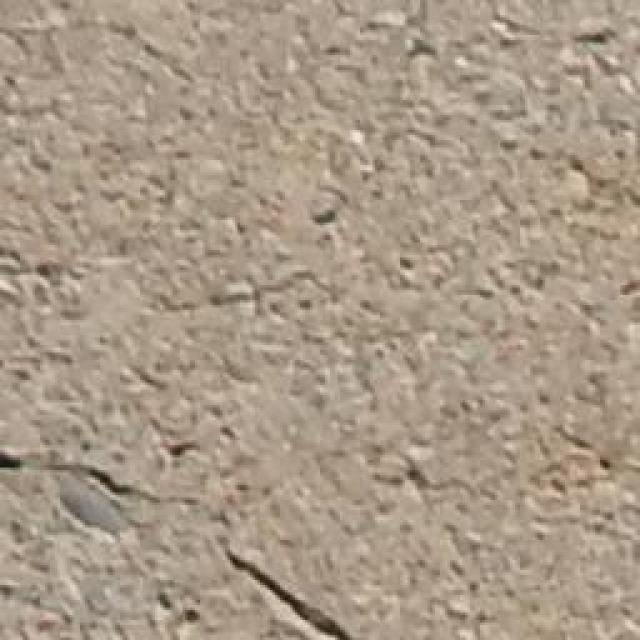concrete-crack: (1, 443, 362, 640)
